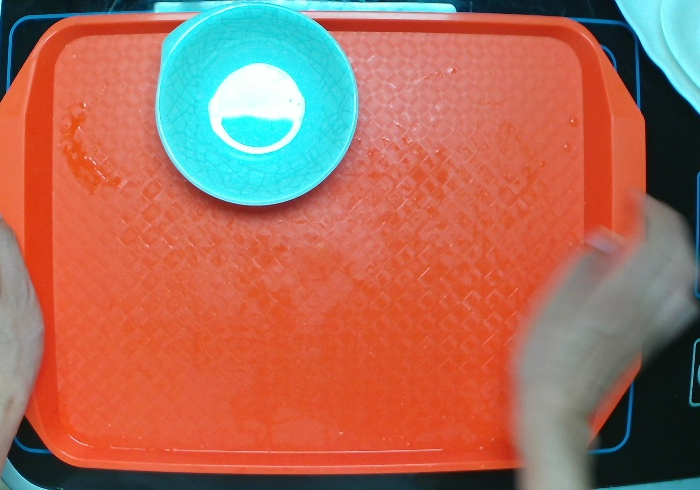RJxy-Xiao_Jiao_Yuan_Wan: (153, 1, 364, 218)
